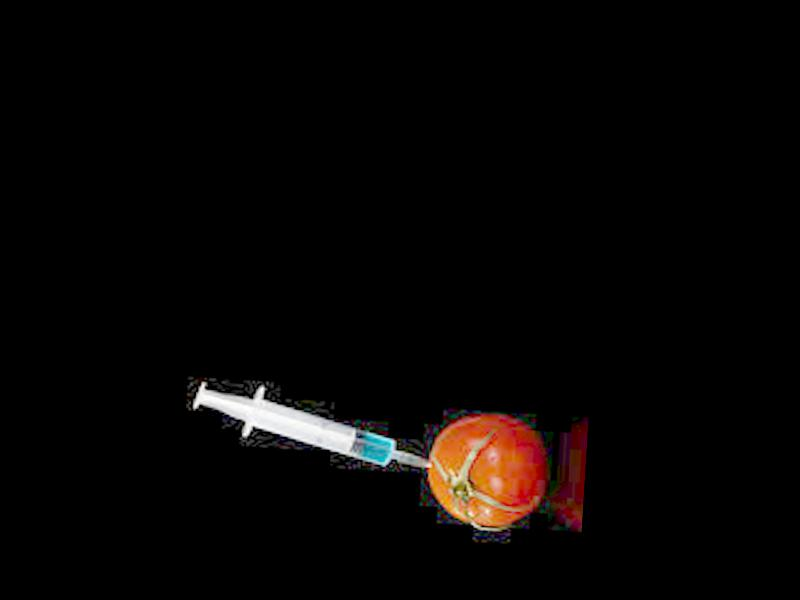Tomato: (423, 409, 545, 532)
